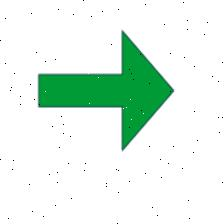right: (32, 26, 186, 160)
